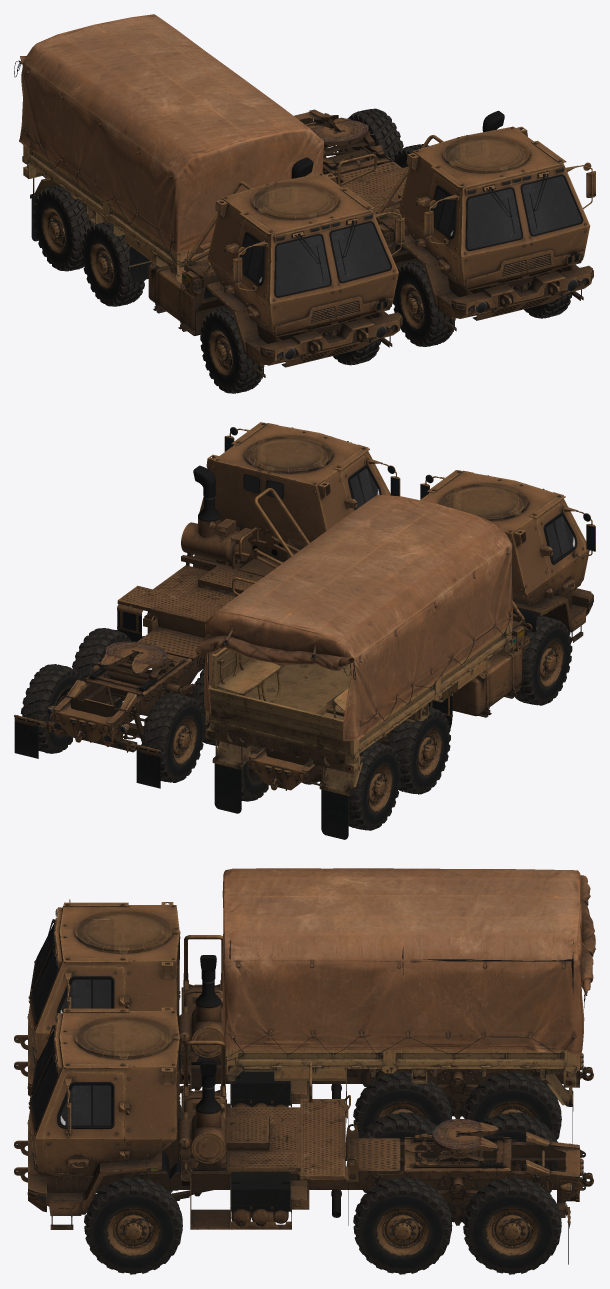
File: oskosh-truck.gltf
The picture shows the model from 3 angles, top to bottom: view 1: azimuth 30°, elevation 25°; view 2: azimuth 150°, elevation 25°; view 3: azimuth 270°, elevation 25°; orthographic projection. The views are drawn at different scales.
Visible parts, largest first — view 1: Object_3, Object_5, Object_7, Object_18, Object_4, Object_31, Object_13, Object_9, Object_38, Object_39, Object_41, Object_35 (+10 smaller); view 2: Object_3, Object_31, Object_13, Object_7, Object_5, Object_9, Object_12, Object_4, Object_18, Object_33, Object_43, Object_39 (+14 smaller); view 3: Object_3, Object_7, Object_13, Object_5, Object_14, Object_31, Object_9, Object_37, Object_45, Object_36, Object_18, Object_4 (+12 smaller).
Part boxes in pixels (box(x1,y1,x2,y2)): Object_3: box(14, 14, 323, 264); Object_5: box(204, 173, 402, 378); Object_7: box(395, 126, 593, 331); Object_18: box(242, 142, 593, 359); Object_4: box(251, 134, 530, 219); Object_31: box(22, 145, 209, 282); Object_13: box(307, 113, 407, 215); Object_9: box(182, 110, 504, 314); Object_38: box(33, 184, 93, 271); Object_39: box(81, 222, 145, 306); Object_41: box(200, 306, 264, 393); Object_35: box(393, 260, 455, 346); Object_3: box(195, 494, 512, 741); Object_31: box(205, 624, 512, 839); Object_13: box(14, 558, 263, 788); Object_7: box(199, 422, 390, 567); Object_5: box(420, 470, 593, 642); Object_9: box(181, 465, 532, 658); Object_12: box(54, 636, 205, 742); Object_4: box(243, 433, 528, 520); Object_18: box(47, 437, 592, 774); Object_33: box(209, 688, 350, 754); Object_43: box(141, 693, 205, 782); Object_39: box(388, 707, 450, 794); Object_3: box(222, 868, 595, 1061); Object_7: box(14, 1007, 180, 1229); Object_13: box(180, 1062, 585, 1264); Object_5: box(14, 902, 180, 1096); Object_14: box(47, 1130, 579, 1229); Object_31: box(225, 1049, 576, 1143); Object_9: box(169, 935, 226, 1185); Object_37: box(463, 1177, 561, 1274); Object_45: box(353, 1177, 452, 1274); Object_36: box(84, 1177, 182, 1274); Object_18: box(31, 909, 583, 1200); Object_4: box(74, 908, 173, 1058).
Size of the model in its own units: 24.58 by 13.53 by 30.14.
